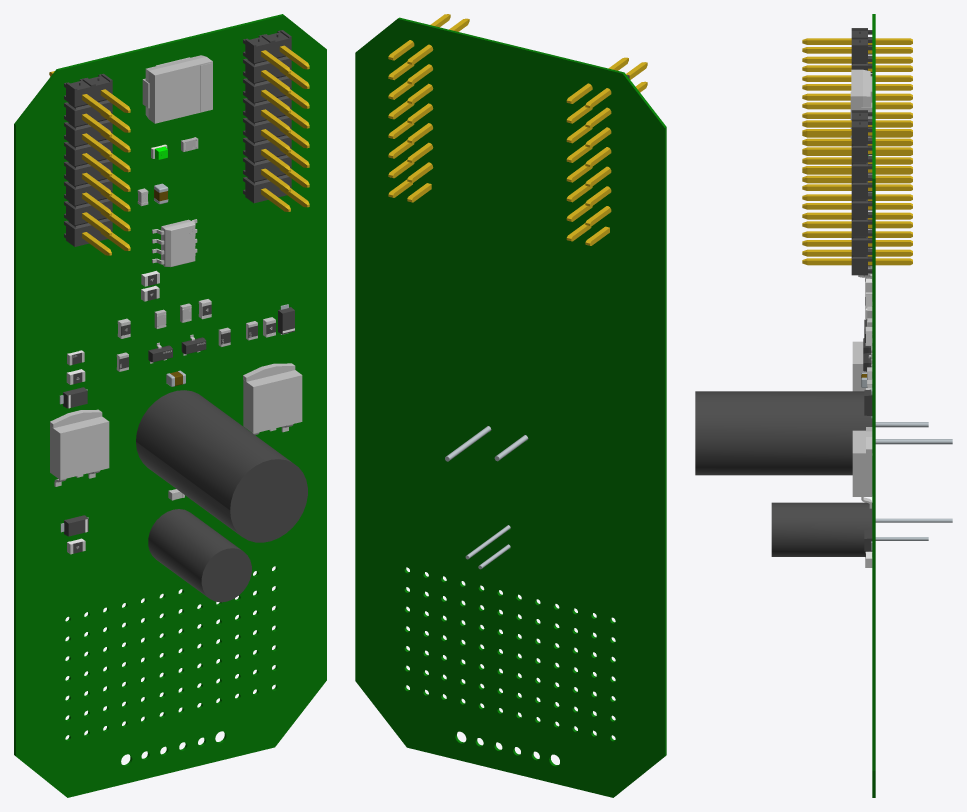
The model's file is robomaestro.glb.
3 renders of one model, left to right at view 1: azimuth 30°, elevation 25°; view 2: azimuth 150°, elevation 25°; view 3: azimuth 270°, elevation 25°, orthographic. The views are drawn at different scales.
Parts seen in each view (by area): view 1: empty_2, empty_287, empty_277, empty_252, empty_256, empty_4, empty_213, empty_219, empty_253, empty_257, empty_250, empty_254 (+4 smaller); view 2: empty_2, empty_253, empty_257, empty_255, empty_251; view 3: empty_287, empty_277, empty_257, empty_255, empty_253, empty_254, empty_2, empty_251, empty_213, empty_4, empty_250, empty_219 (+1 smaller).
Part boxes in pixels (bbox=[...]): empty_2: bbox=[14, 14, 326, 797]; empty_287: bbox=[136, 390, 307, 542]; empty_277: bbox=[148, 509, 251, 602]; empty_252: bbox=[64, 78, 93, 246]; empty_256: bbox=[243, 34, 272, 203]; empty_4: bbox=[145, 55, 212, 123]; empty_213: bbox=[243, 370, 302, 433]; empty_219: bbox=[50, 416, 109, 479]; empty_253: bbox=[49, 71, 111, 255]; empty_257: bbox=[261, 50, 290, 211]; empty_250: bbox=[85, 73, 112, 240]; empty_254: bbox=[262, 30, 291, 197]; empty_2: bbox=[355, 17, 666, 797]; empty_253: bbox=[585, 62, 647, 245]; empty_257: bbox=[407, 18, 469, 202]; empty_255: bbox=[388, 14, 450, 197]; empty_251: bbox=[566, 57, 628, 241]; empty_287: bbox=[695, 391, 872, 475]; empty_277: bbox=[771, 502, 872, 556]; empty_257: bbox=[802, 120, 912, 256]; empty_255: bbox=[802, 129, 912, 265]; empty_253: bbox=[802, 38, 912, 174]; empty_254: bbox=[851, 118, 872, 275]; empty_2: bbox=[872, 14, 875, 797]; empty_251: bbox=[802, 47, 912, 183]; empty_213: bbox=[852, 430, 871, 496]; empty_4: bbox=[851, 69, 872, 138]; empty_250: bbox=[851, 36, 872, 76]; empty_219: bbox=[852, 341, 871, 391].
Bounding box in the file's own units: 41.91 × 93.98 × 32.
